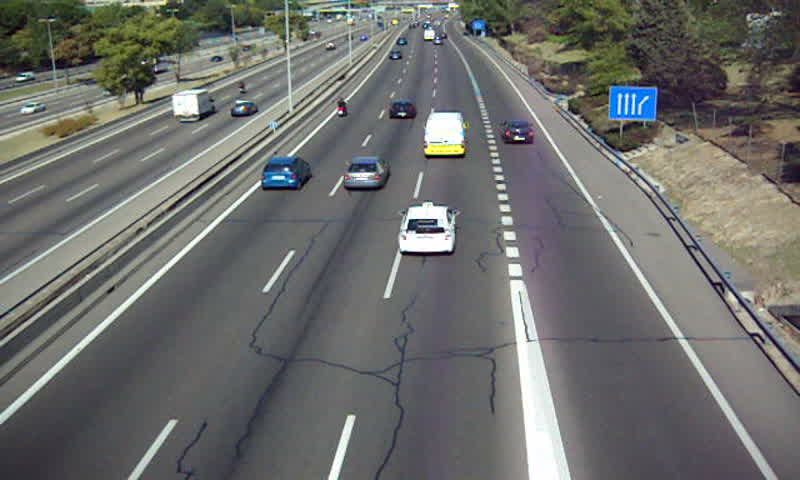car: (398, 205, 455, 253), (260, 159, 310, 189), (342, 157, 388, 189), (500, 120, 536, 146), (387, 102, 415, 120)
motorcycle: (335, 98, 348, 121)
van: (424, 112, 466, 155)
